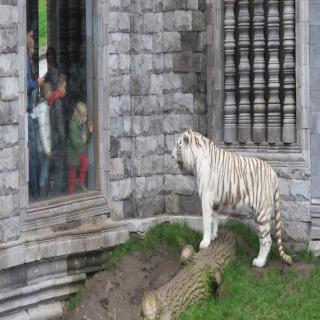Tiger: (172, 128, 292, 266)
